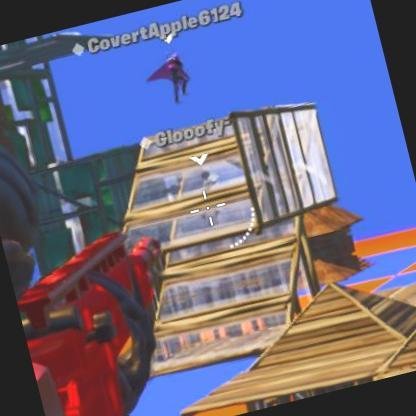person: (191, 166, 226, 232), (159, 47, 192, 100)
